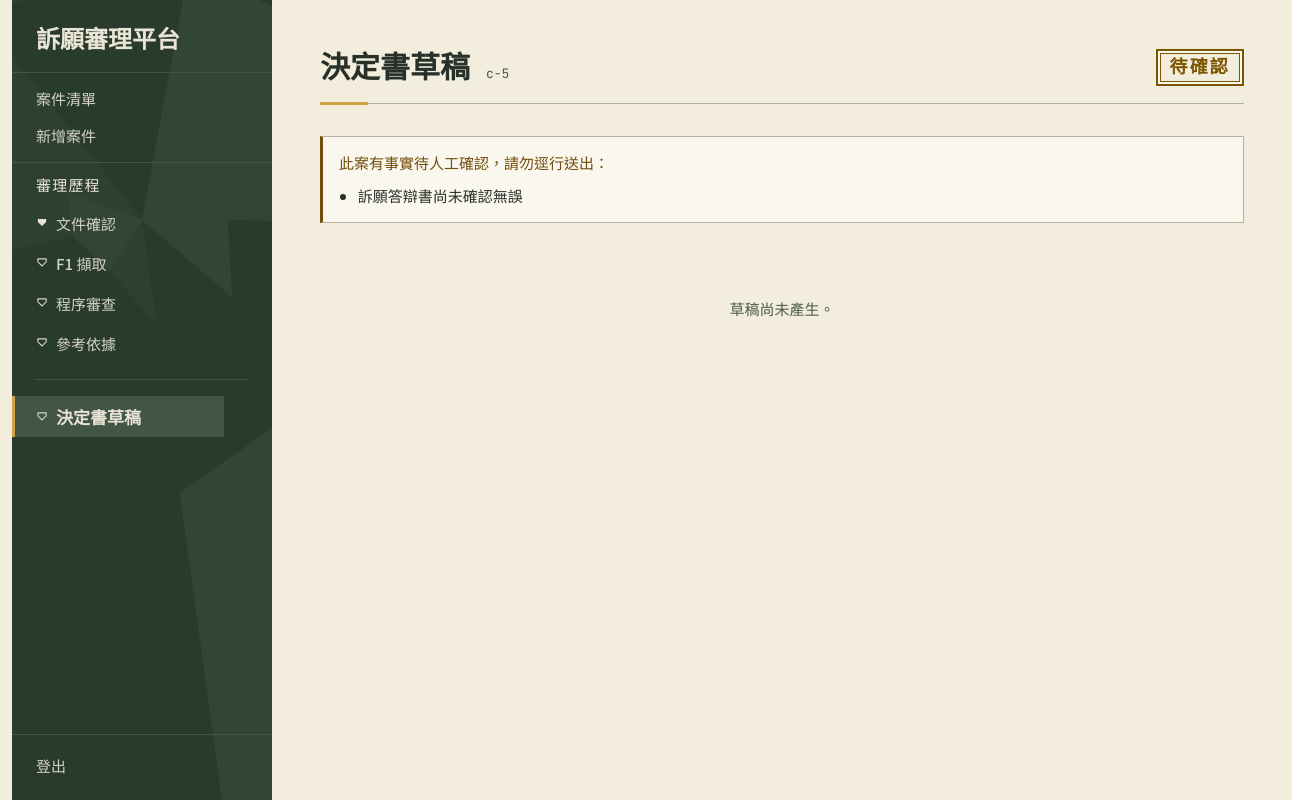
Test: 文件確認頁 › 答辯書有內容但判斷不符時,標示不符原因但不擋開始分析
The image size is (1292, 800).
Click the button "文件確認".
click(118, 223)  # box [12, 203, 224, 243]
(page scrolled)
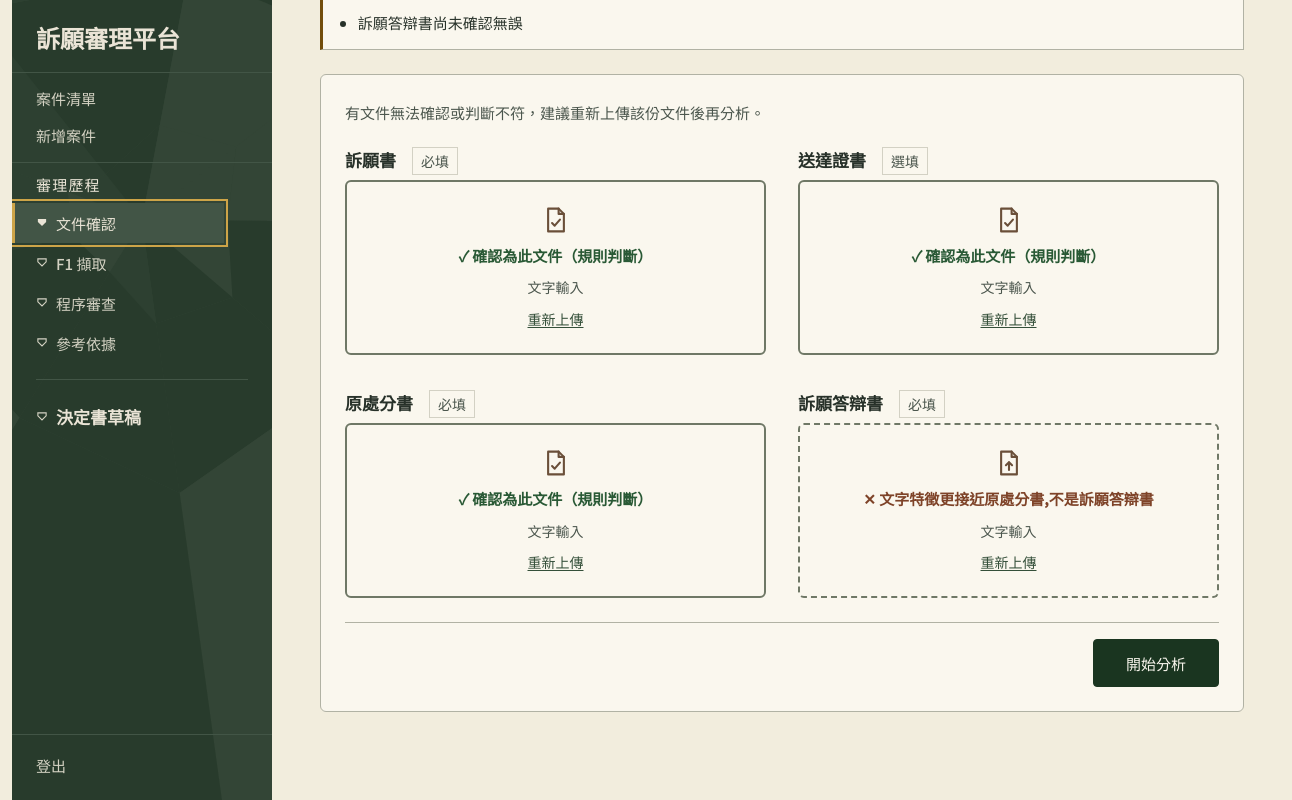
Result: the text "✕ 文字特徵更接近原處分書,不是訴願答辯書" is shown at [863, 485, 1154, 514]
